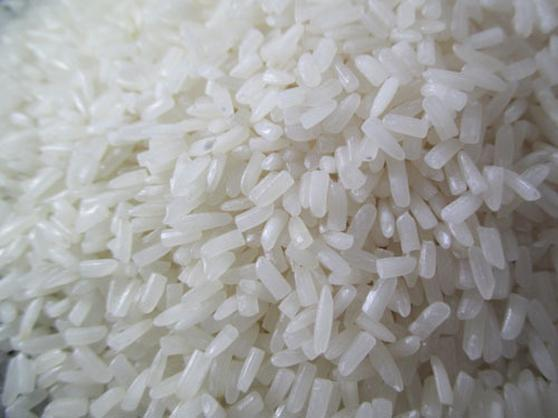rice: (36, 36, 468, 376)
